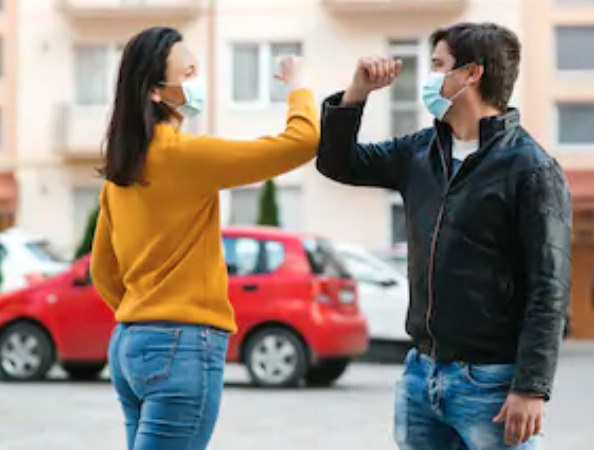Bad: (91, 24, 570, 450)
